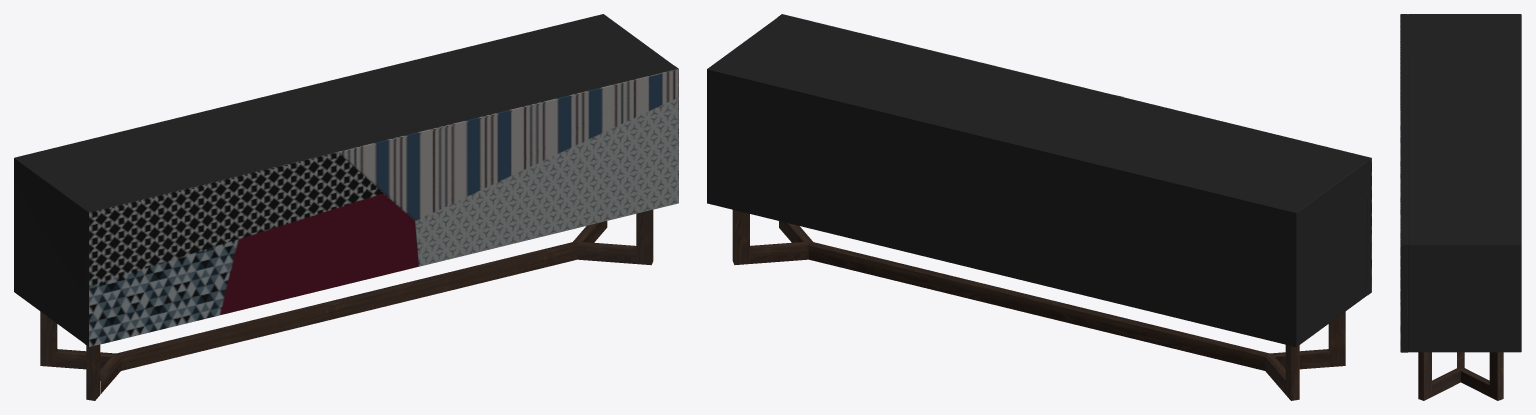
File: media_unit_floor_based_media_unit_1ec050c5-a295-5ce8-9c21-6197fce1230d.glb
3 renders of one model, left to right at view 1: azimuth 30°, elevation 25°; view 2: azimuth 150°, elevation 25°; view 3: azimuth 270°, elevation 25°, orthographic. The views are drawn at different scales.
Visible parts, largest first — view 1: raw_model.obj; view 2: raw_model.obj; view 3: raw_model.obj.
Part boxes in pixels (<box>): raw_model.obj: <box>14,14,678,400</box>; raw_model.obj: <box>707,14,1371,400</box>; raw_model.obj: <box>1400,14,1521,400</box>.
Size of the model in its own units: 2.16 by 0.7028 by 0.479.
Materials: 1 (1 with a texture image).
